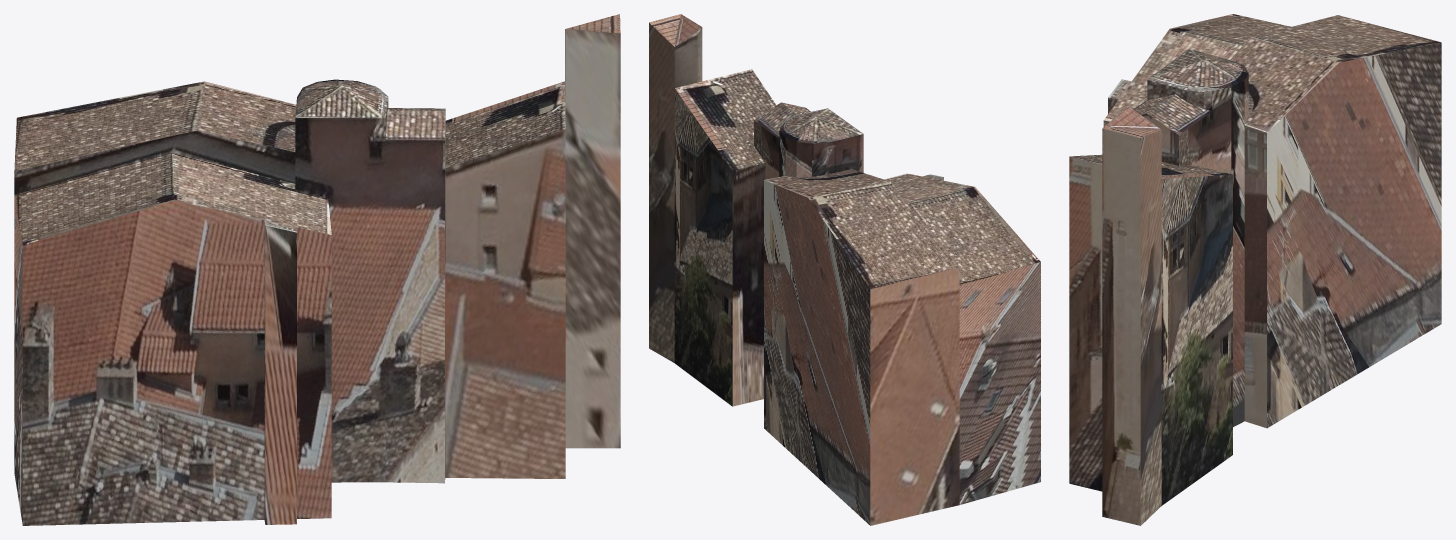
3 renders of one model, left to right at view 1: azimuth 30°, elevation 25°; view 2: azimuth 150°, elevation 25°; view 3: azimuth 270°, elevation 25°, orthographic. The views are drawn at different scales.
Visible parts, largest first — view 1: Z_UP; view 2: Z_UP; view 3: Z_UP.
Part boxes in pixels (x1,y1,x2,y2): Z_UP: (14,14,620,525); Z_UP: (649,14,1040,525); Z_UP: (1069,14,1441,525).
Bounding box in the file's own units: 29.92 × 21.86 × 18.84.
2 materials, 1 textured.
